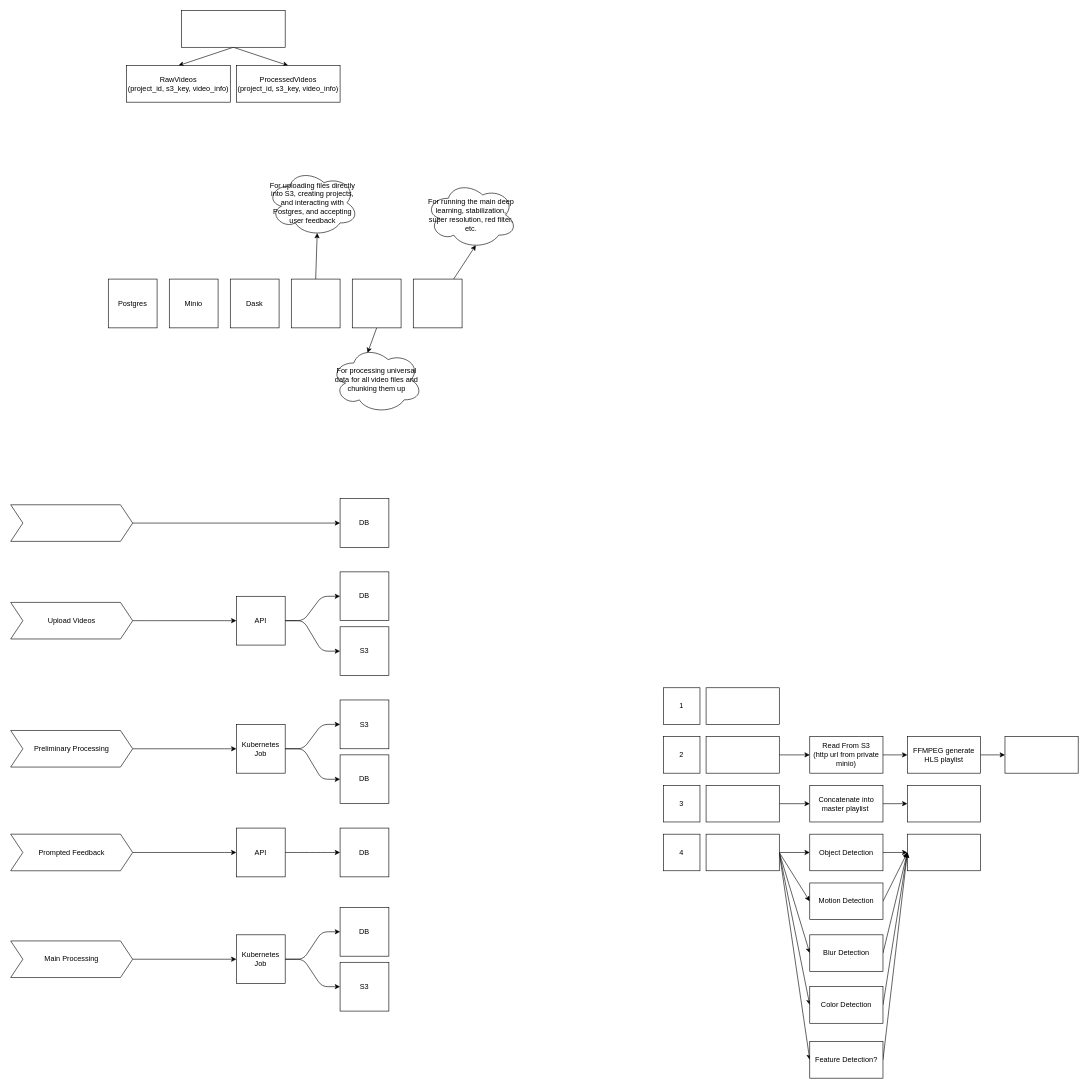
This 1089x1089 diagram has some shape labels left out. Each missing label, with the box of its shape:
Core API: (291, 278, 340, 328)
Create a new project: (10, 504, 133, 541)
For All Raw Videos: (705, 736, 779, 773)
List all raw video playlists: (705, 785, 779, 822)
OpenCV Stream from master playlist: (705, 834, 779, 871)
Preliminary Job: (352, 278, 401, 328)
Process Job: (413, 278, 462, 328)
Projects (name, username, s3_prefix): (181, 10, 285, 47)
Upload Parquet to S3: (907, 834, 981, 871)
Upload raw video to S3 from API: (705, 687, 779, 724)
Upload to S3: (907, 785, 981, 822)
Upload to S3 with s3fuse as a mounted directory: (1004, 736, 1078, 773)
